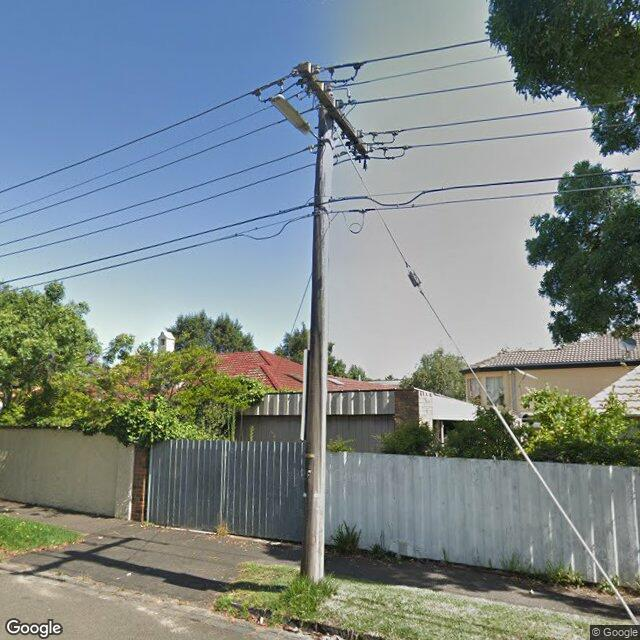crossarm: (252, 60, 412, 172)
streetlight: (272, 95, 324, 145)
timber-pole: (300, 88, 335, 586)
